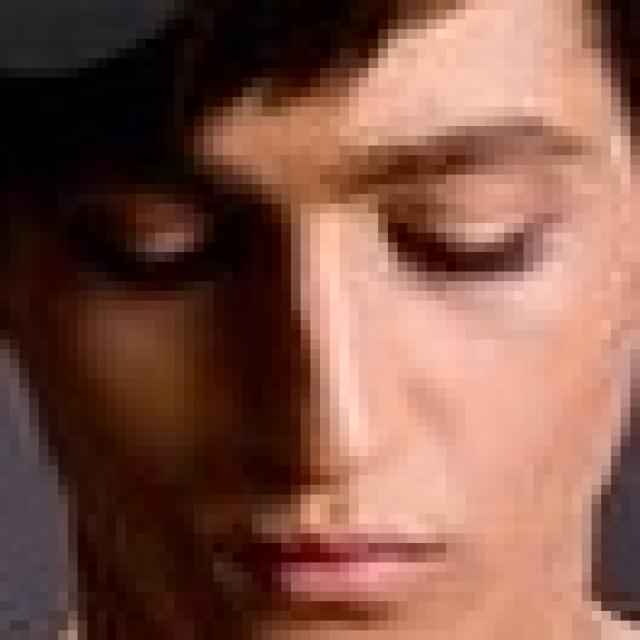Eyeclosed: (389, 210, 523, 280), (111, 237, 200, 287)
